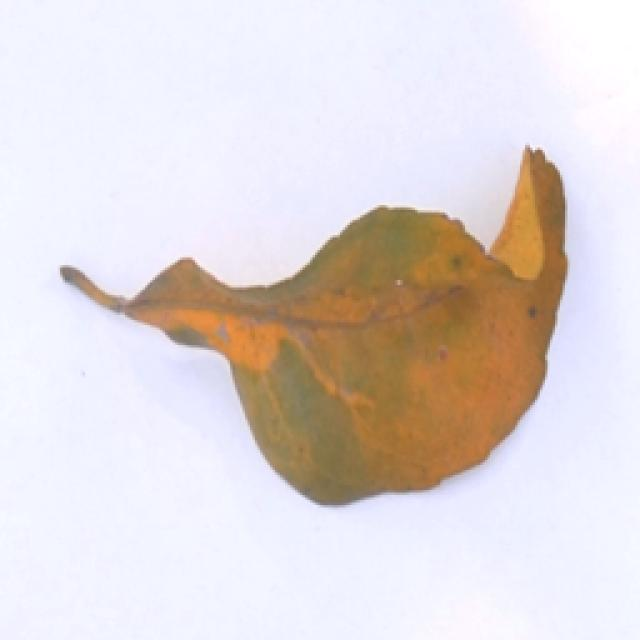greening: (51, 130, 586, 534)
